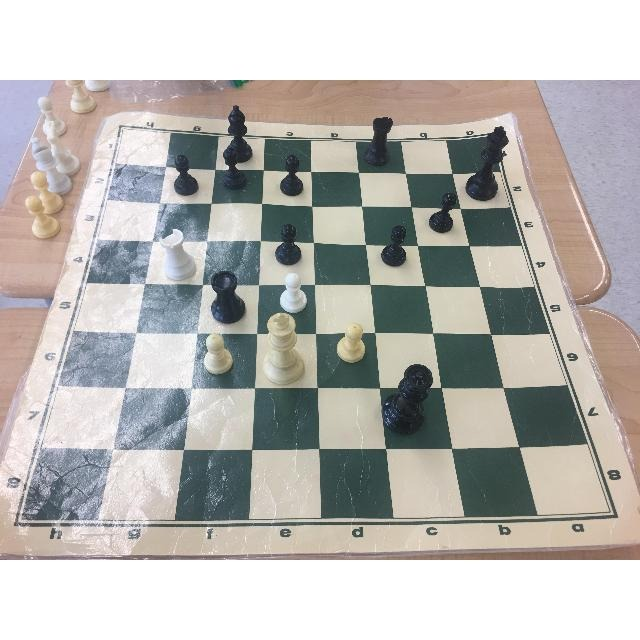black-bishop: (214, 105, 258, 161)
black-king: (472, 116, 519, 202)
black-pawn: (272, 150, 310, 202), (372, 225, 416, 266), (270, 223, 309, 266), (424, 194, 462, 238), (216, 147, 250, 192), (172, 158, 202, 197)
black-queen: (388, 350, 437, 435)
black-rook: (207, 272, 249, 326), (363, 113, 399, 169)
white-king: (258, 311, 314, 399)
white-pawn: (333, 305, 373, 370), (275, 272, 317, 318), (197, 335, 237, 375)
white-rook: (154, 227, 198, 281)
